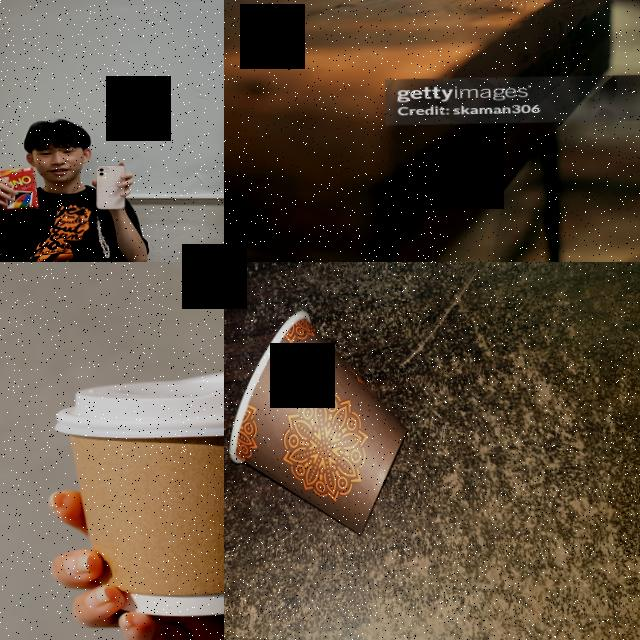cup: (49, 364, 224, 624), (224, 305, 413, 542)
